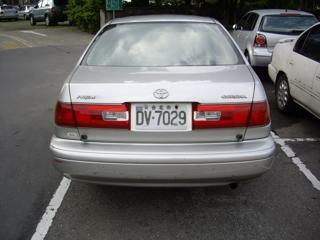plate: (133, 104, 187, 129)
